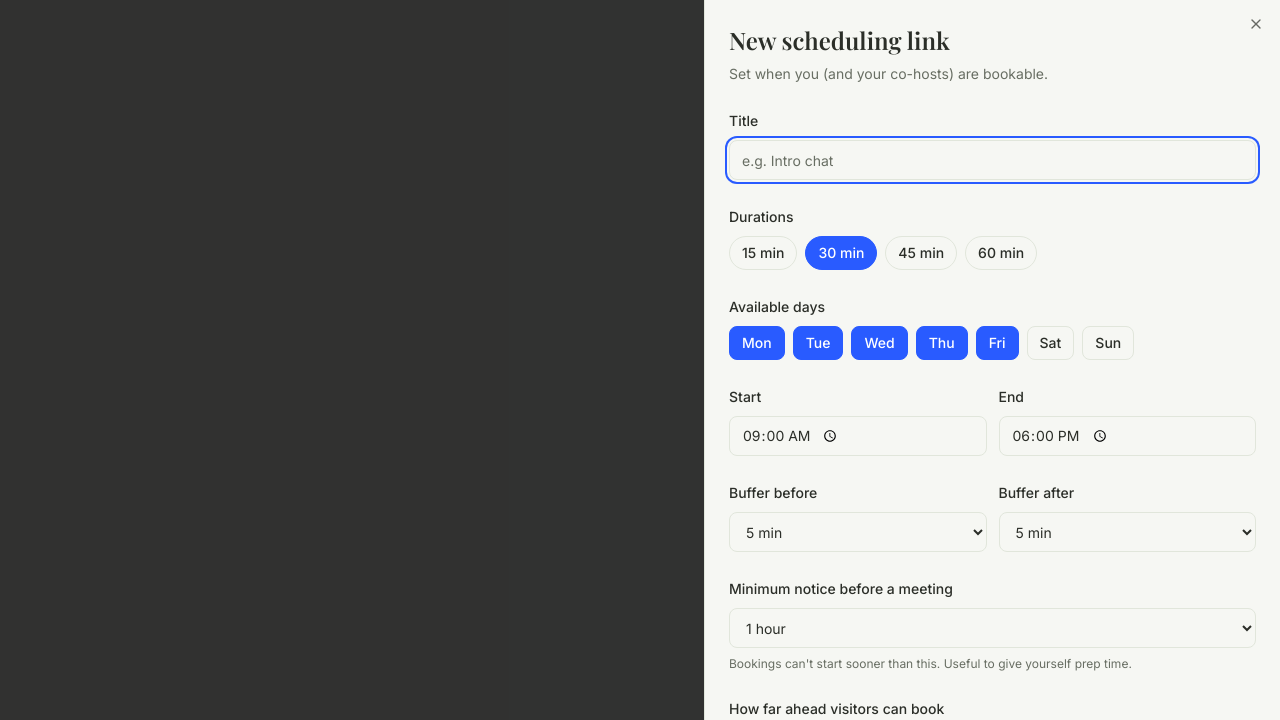
Test: the attempt key (contract §7.2) › AC-23: the key lives in page memory only
Type "Intro" into the field labelled "Title" at (992, 160), box [729, 140, 1256, 180]
(page scrolled)
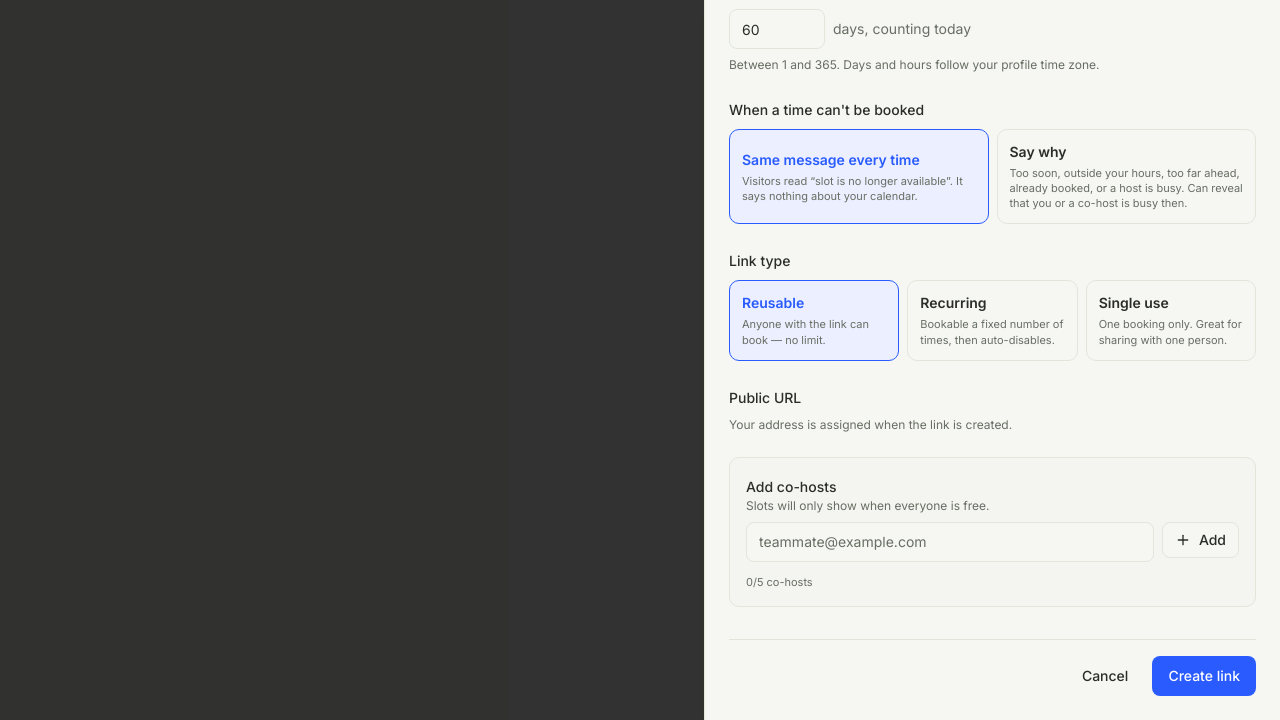
Click the button "Create link" at (1204, 676), box [1152, 656, 1256, 696]
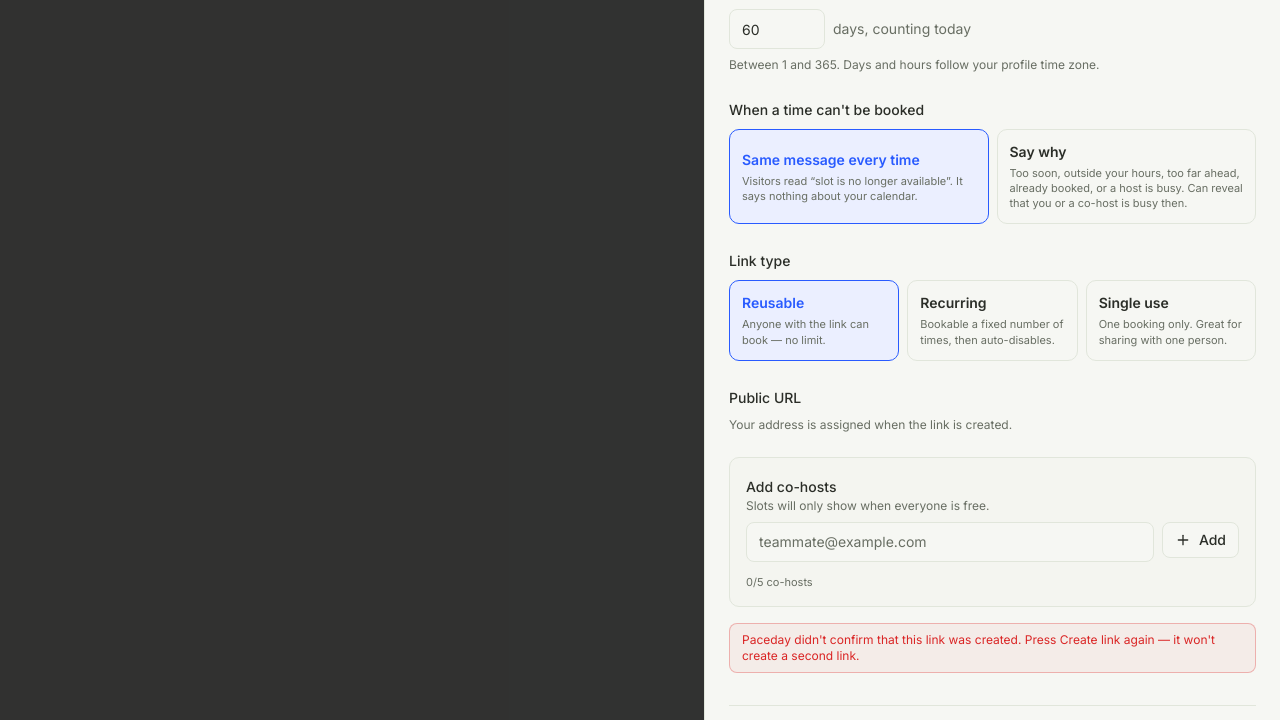
Expected: the message shows "Paceday didn't confirm that this link was created. Press Create link again — it won't create a second link.", [742, 632, 1215, 663]
